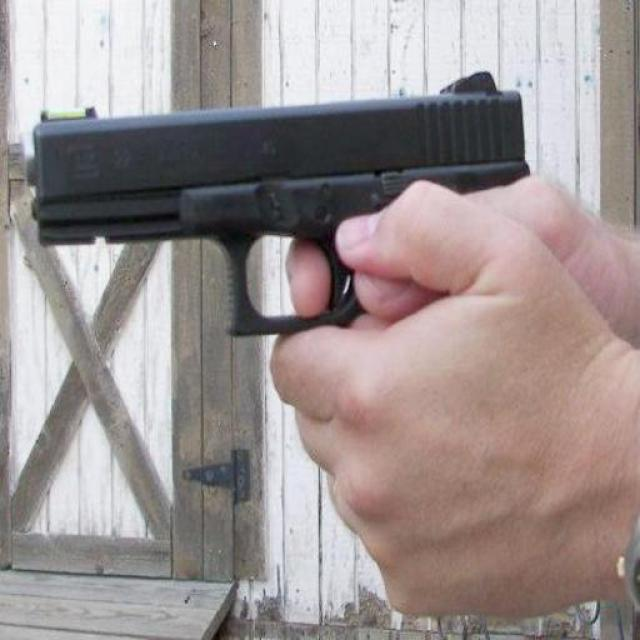pistol: (25, 66, 530, 338)
